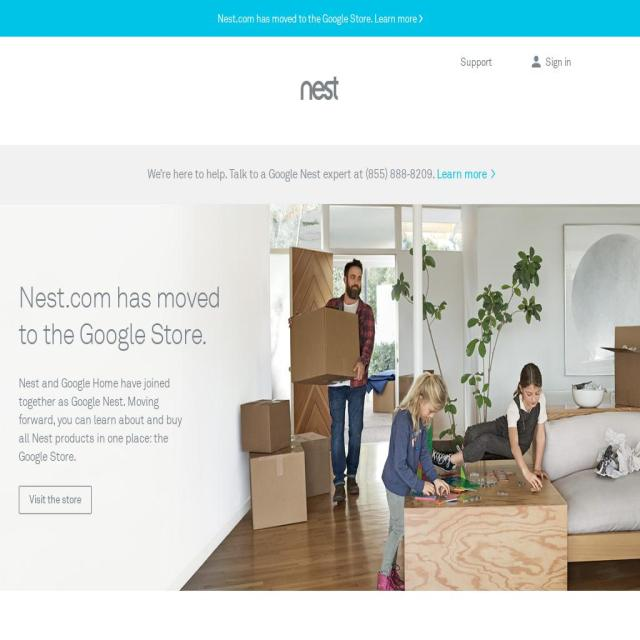button: (19, 485, 92, 514)
heading: (19, 280, 222, 354)
image: (0, 204, 640, 591)
link: (491, 166, 496, 182)
text: (18, 373, 190, 466), (147, 167, 366, 181), (365, 167, 433, 181), (436, 167, 489, 181), (432, 167, 437, 181)
